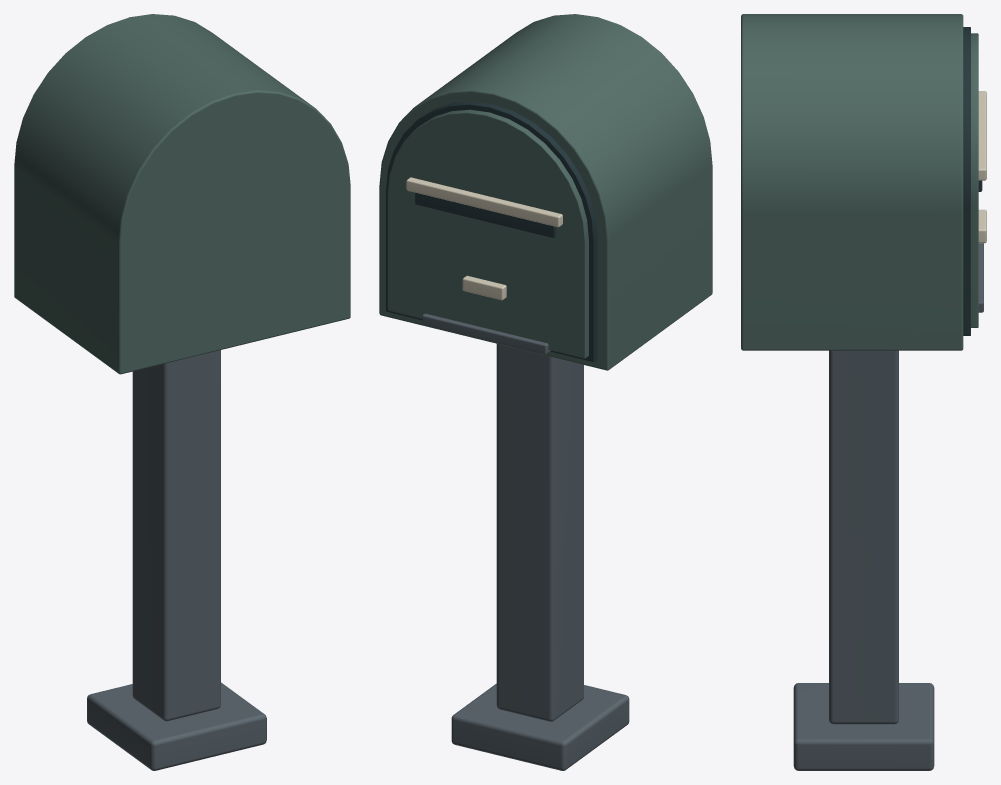
The model's file is d02_domestic_details_03.glb.
The picture shows the model from 3 angles, left to right: view 1: azimuth 30°, elevation 25°; view 2: azimuth 150°, elevation 25°; view 3: azimuth 270°, elevation 25°; orthographic projection. The views are drawn at different scales.
Visible parts, largest first — view 1: D02DomesticDetails03_Mesh; view 2: D02DomesticDetails03_Mesh; view 3: D02DomesticDetails03_Mesh.
Boxes of the visible parts, <box> form: D02DomesticDetails03_Mesh: <box>14,14,350,770</box>; D02DomesticDetails03_Mesh: <box>379,14,712,770</box>; D02DomesticDetails03_Mesh: <box>741,14,986,770</box>.
Size of the model in its own units: 0.48 by 1.35 by 0.42.
